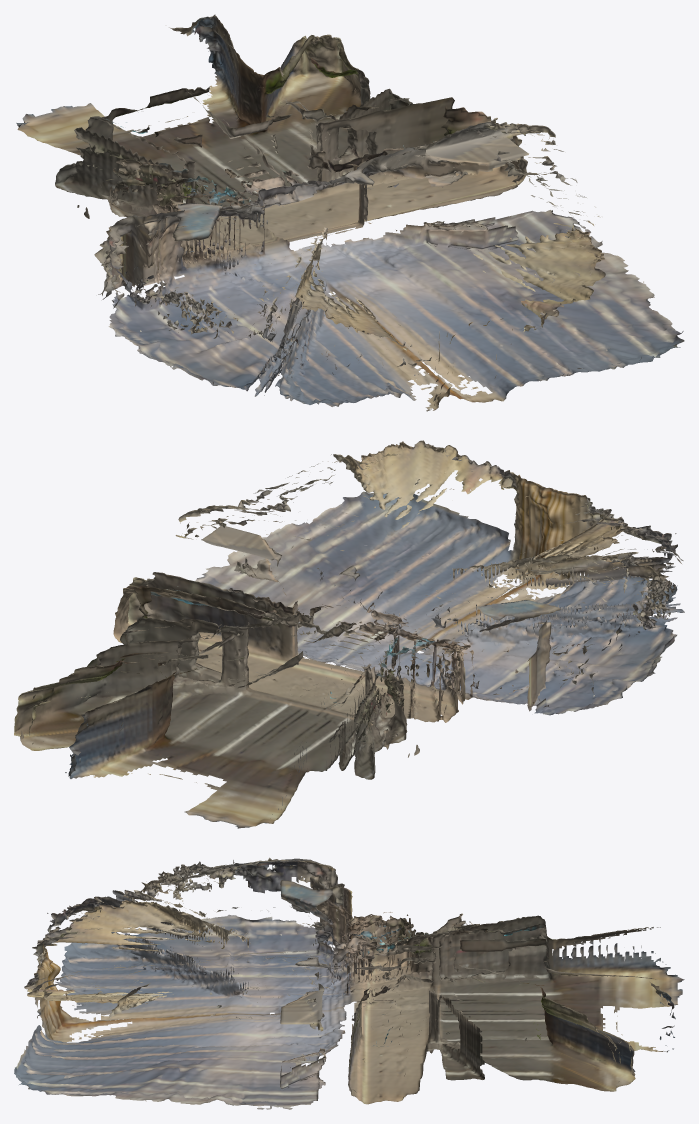
3 renders of one model, top to bottom at view 1: azimuth 30°, elevation 25°; view 2: azimuth 150°, elevation 25°; view 3: azimuth 270°, elevation 25°, orthographic. The views are drawn at different scales.
Parts seen in each view (by area): view 1: world; view 2: world; view 3: world.
Part boxes in pixels (box(x1,y1,x2,y2)): world: box(16, 14, 684, 411); world: box(14, 440, 684, 828); world: box(14, 857, 684, 1109).
Bounding box in the file's own units: 9.51 × 2.5 × 13.99.
